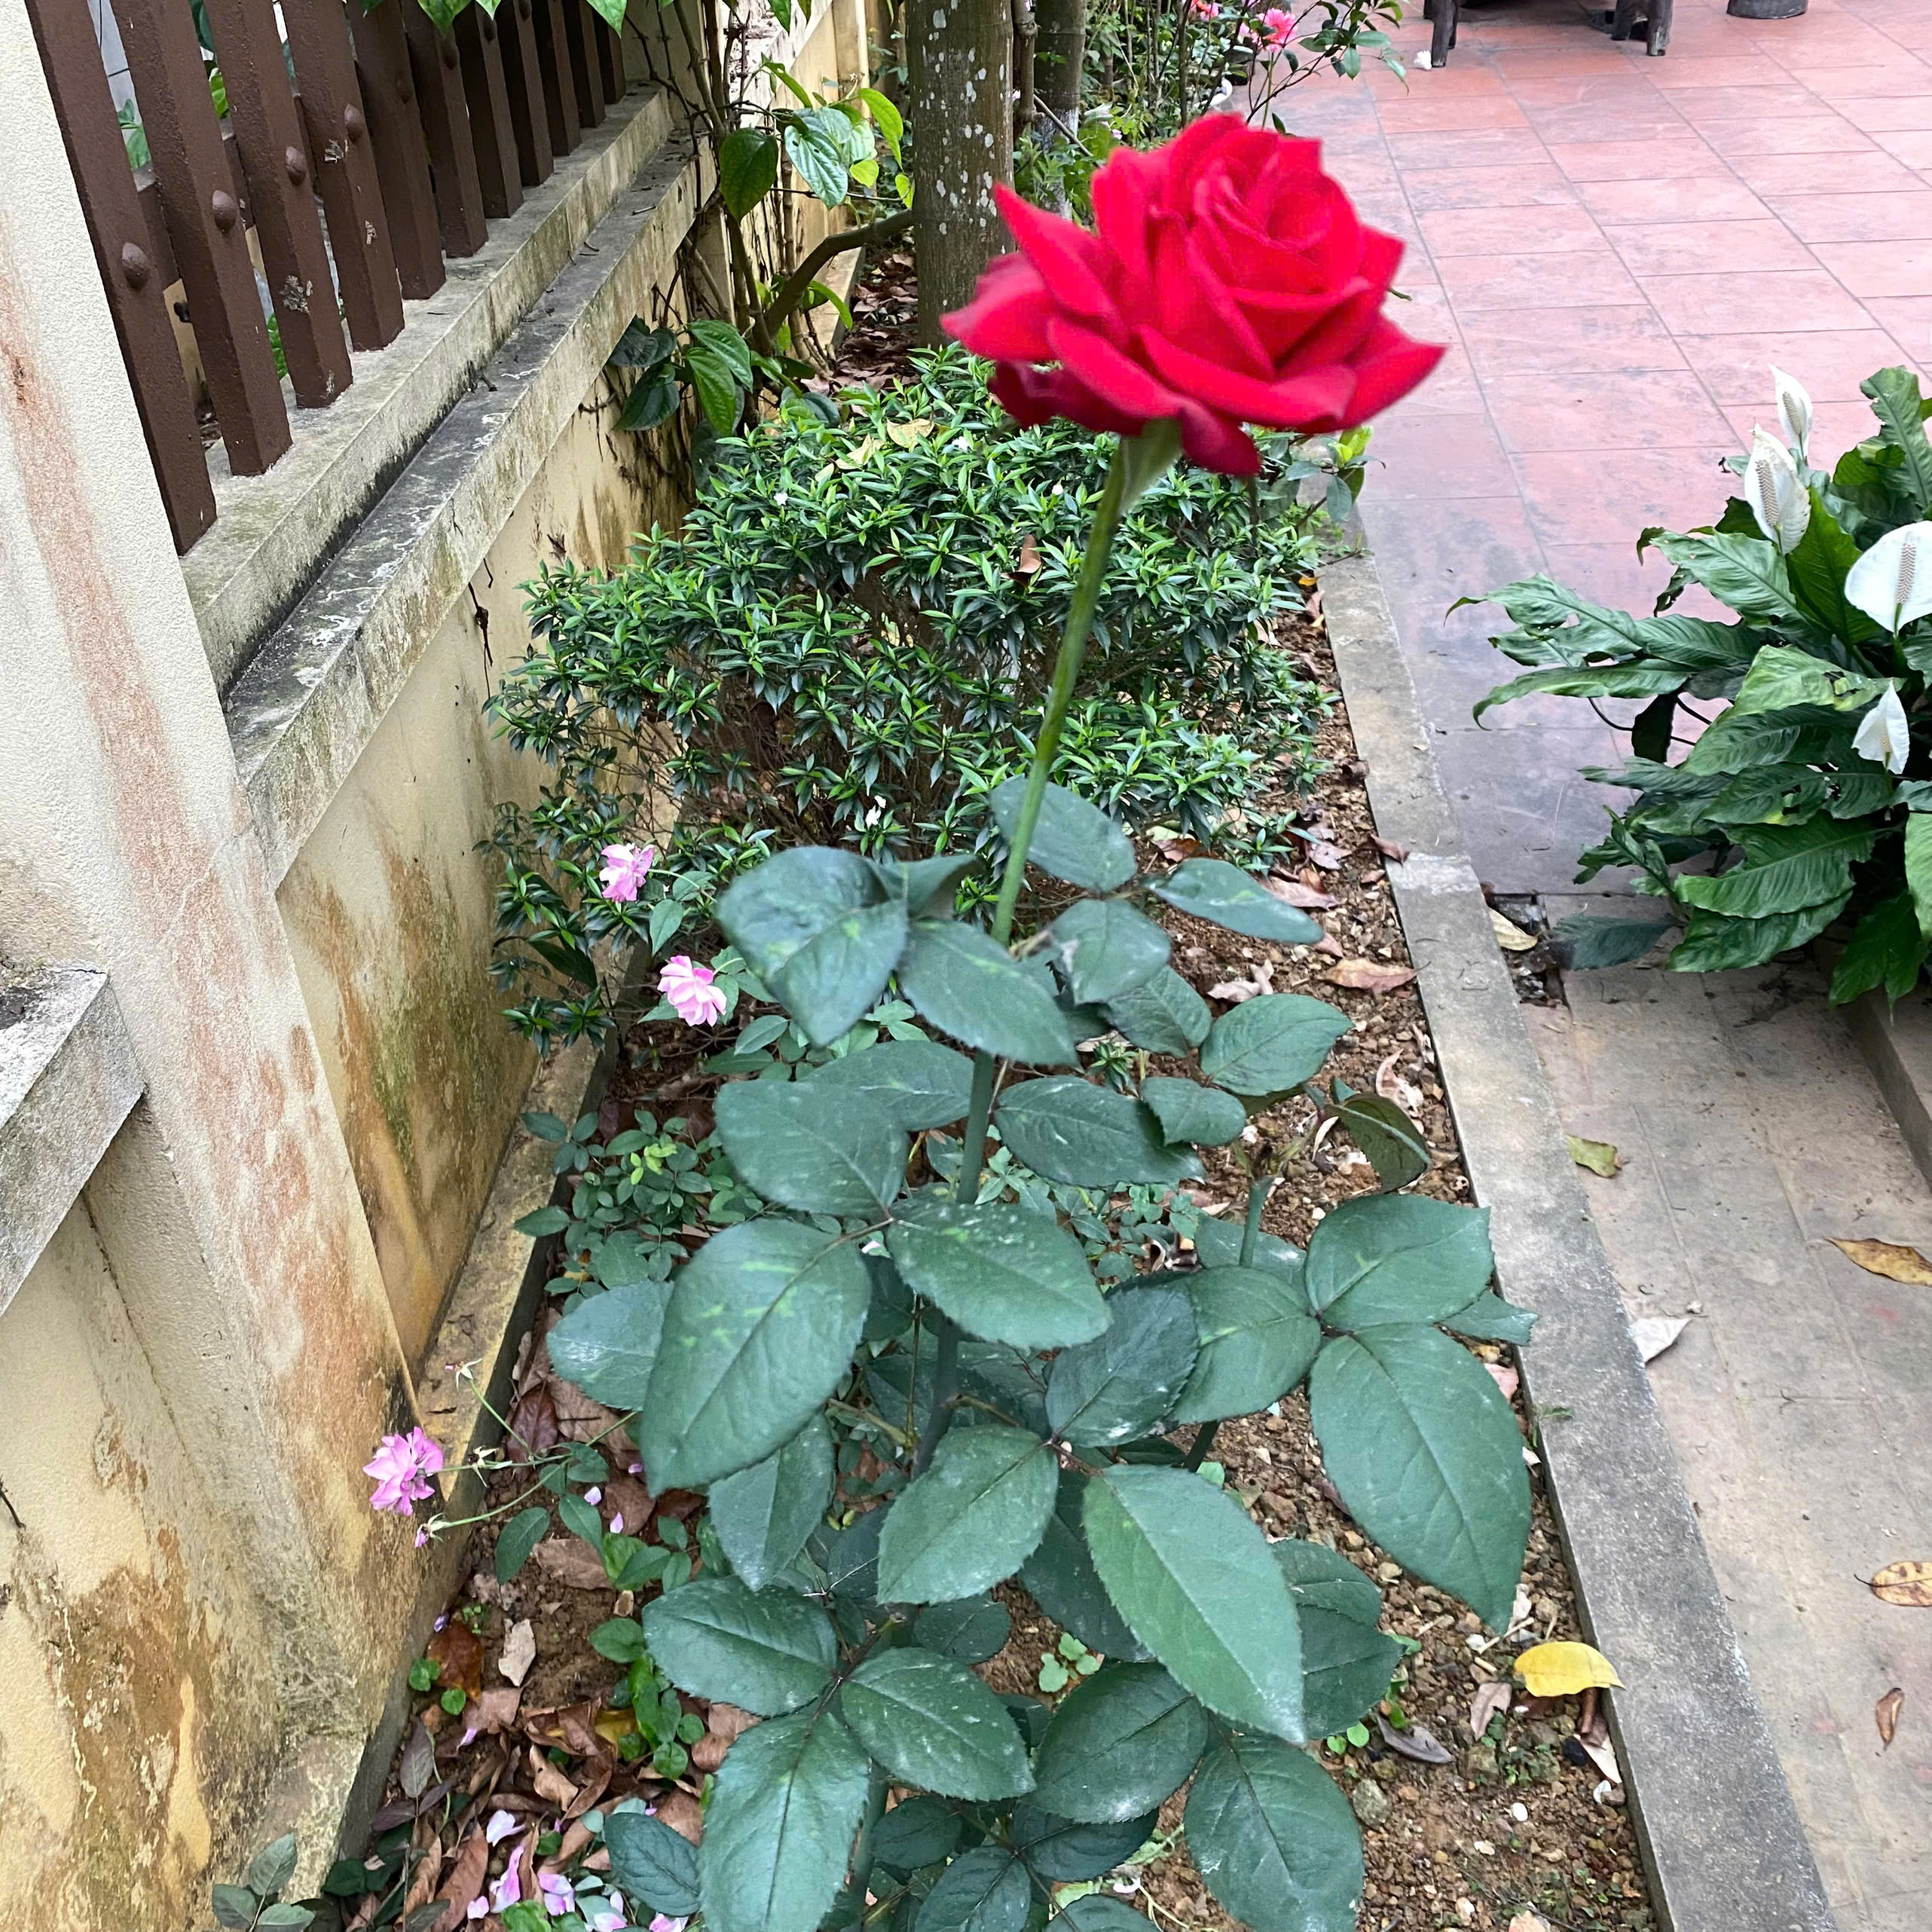hoa_hong_do: (748, 62, 1589, 1913)
